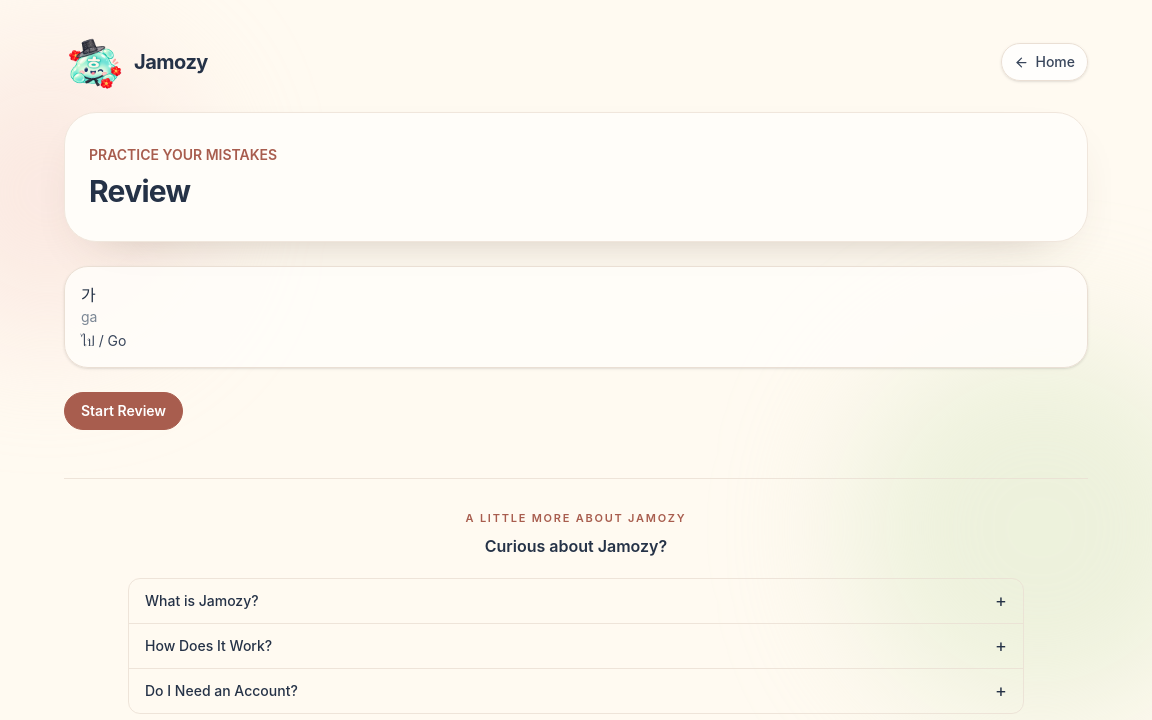
Test: ReviewPage › shows the summary once the review session finishes
Click the button "Start Review" at [124, 411], box [64,392,183,430]
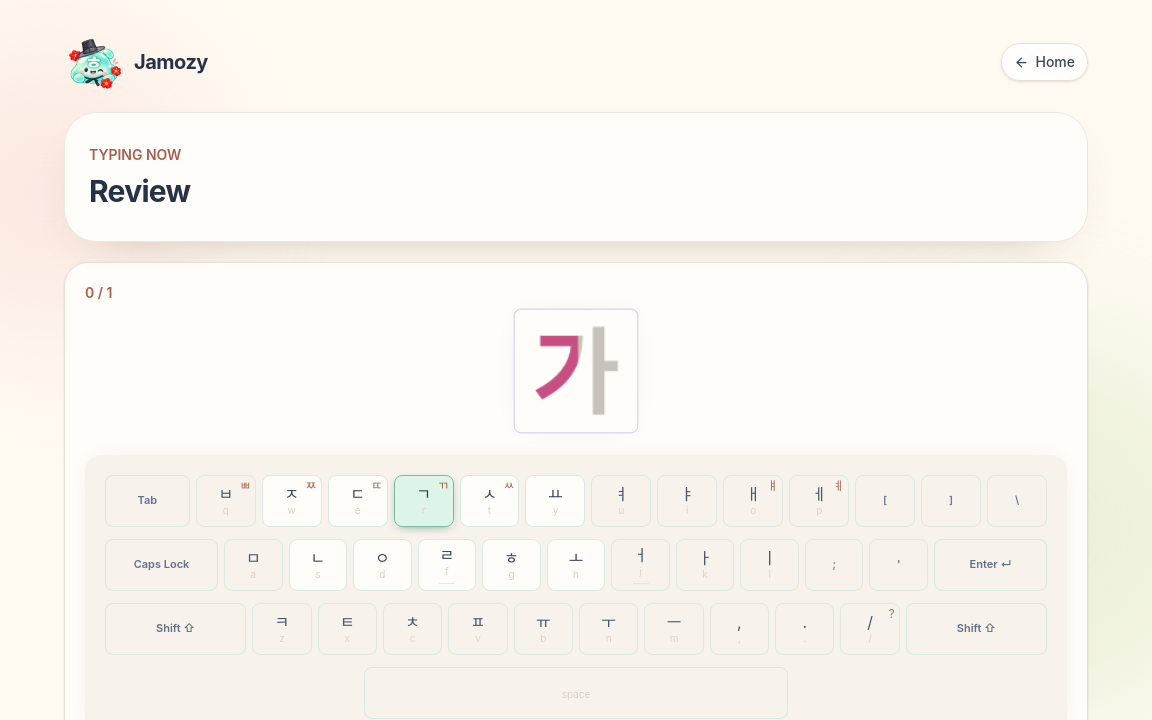
Expected: the text "0 / 1" is shown, [85,284,112,301]
Press KeyR
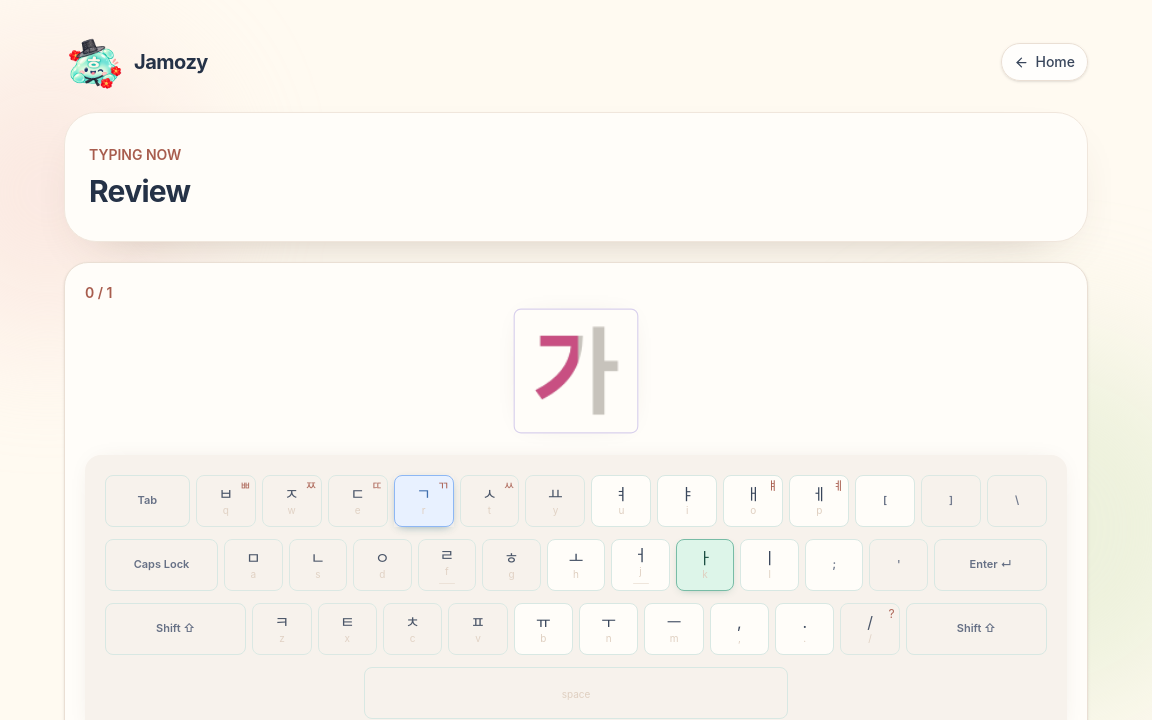
Press KeyK
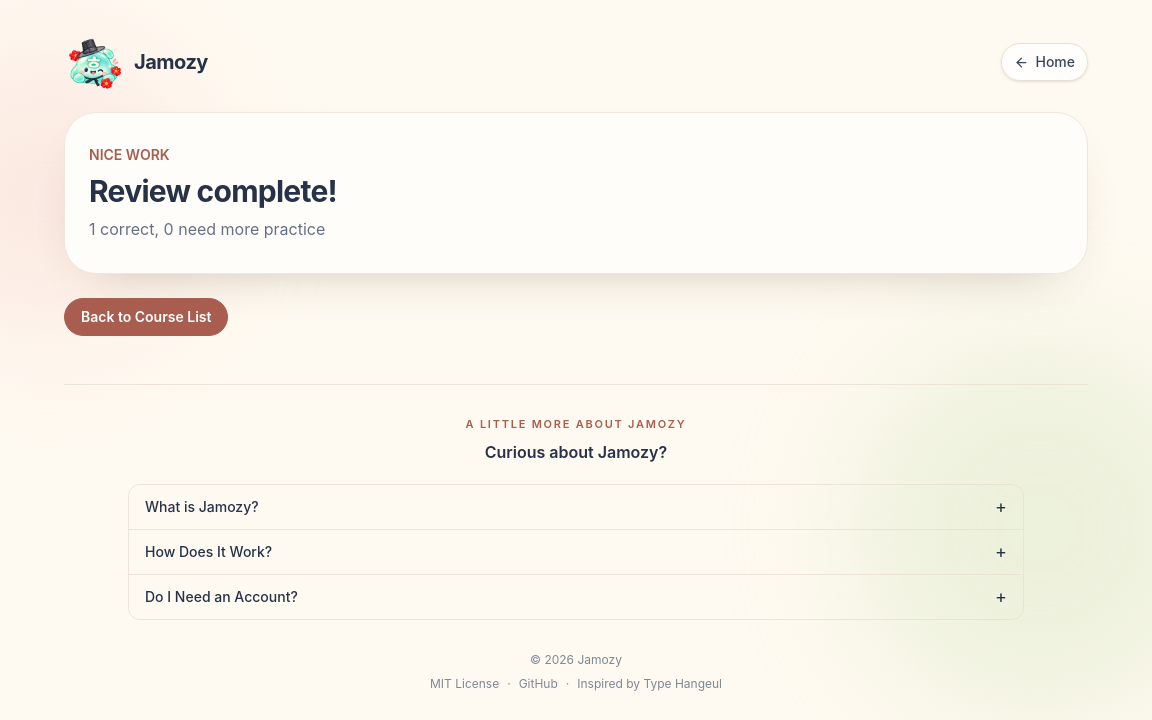
Expected: the heading "Review complete!" is shown, [89,173,337,209]
Expected: the text "1 correct, 0 need more practice" is shown, [89,219,325,239]
